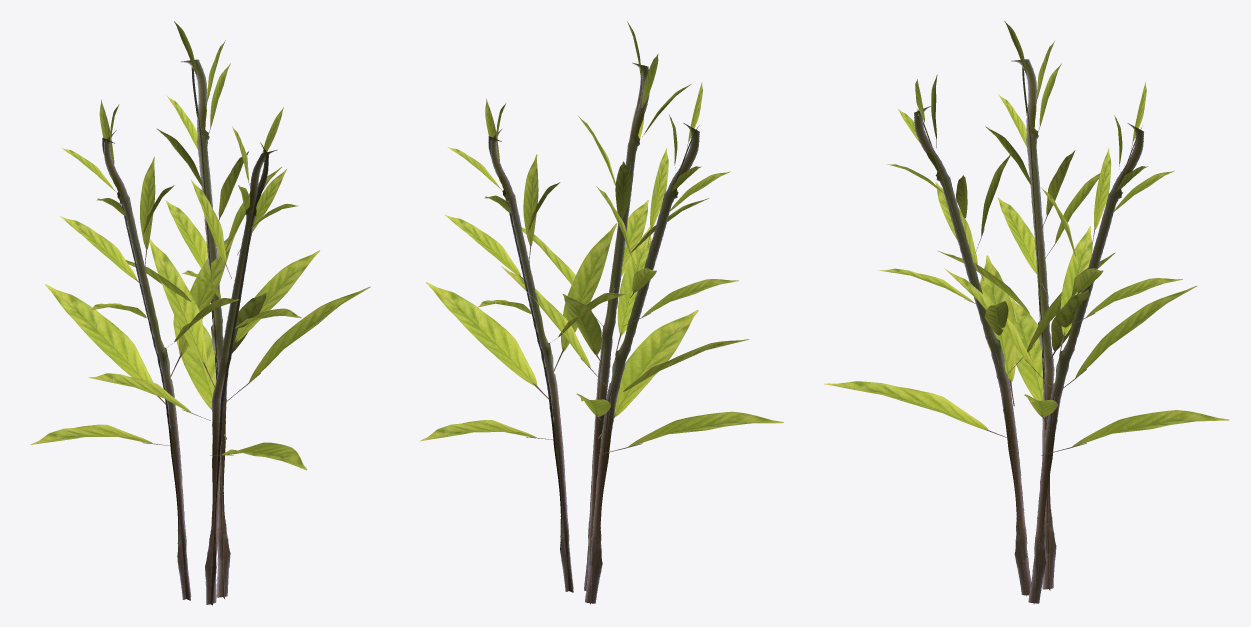
Rendered from TallGRass_2.fbx.
3 views of the same model, side by side, from view 1: azimuth 30°, elevation 25°; view 2: azimuth 150°, elevation 25°; view 3: azimuth 270°, elevation 25° (orthographic).
Visible parts, largest first — view 1: TallGRass_2; view 2: TallGRass_2; view 3: TallGRass_2.
Boxes of the visible parts, x1,y1,x2,y2 form: TallGRass_2: (30, 21, 370, 605); TallGRass_2: (420, 21, 783, 604); TallGRass_2: (824, 21, 1229, 604).
Bounding box in the file's own units: 0.3903 × 0.5615 × 0.3977.
